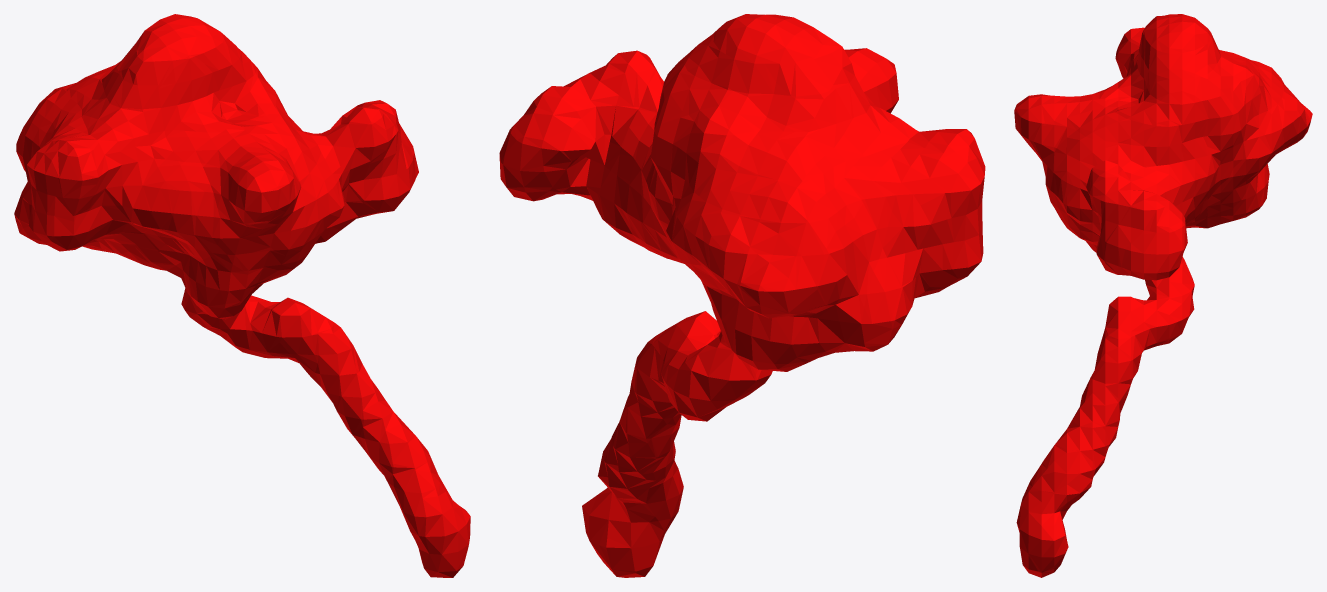
Rendered from htpX_coarse.dae.
The picture shows the model from 3 angles, left to right: view 1: azimuth 30°, elevation 25°; view 2: azimuth 150°, elevation 25°; view 3: azimuth 270°, elevation 25°; orthographic projection. The views are drawn at different scales.
Parts seen in each view (by area): view 1: htpX; view 2: htpX; view 3: htpX.
Part boxes in pixels (box(x1,y1,x2,y2)): htpX: box(14, 14, 470, 577); htpX: box(499, 14, 985, 577); htpX: box(1014, 14, 1312, 577).
Size of the model in its own units: 75.58 by 105 by 59.21.
